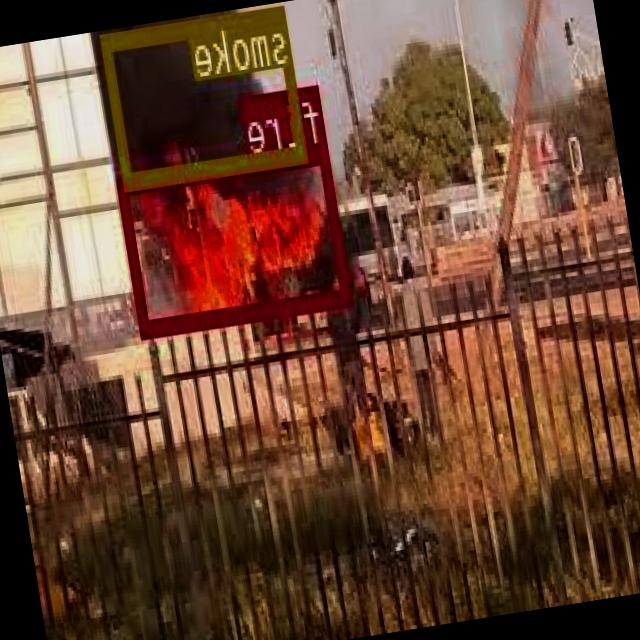fire: (118, 142, 354, 333)
smoke: (102, 5, 309, 186)
